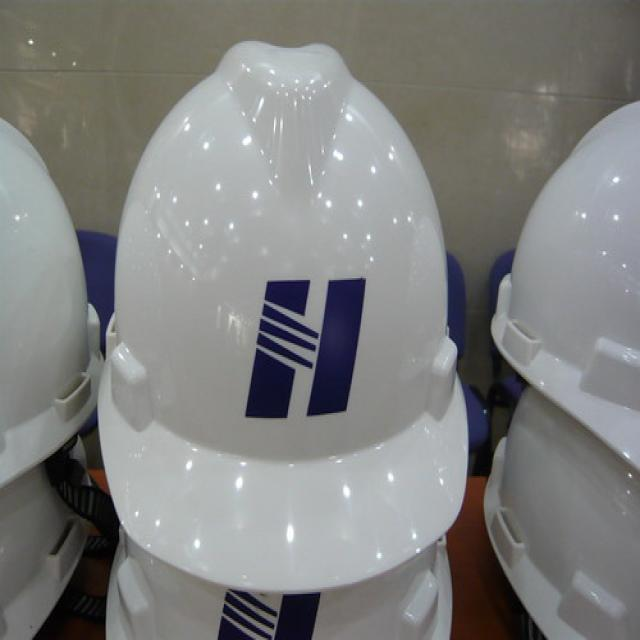safety_helmet: (88, 27, 475, 597), (489, 80, 639, 505), (0, 63, 101, 588)
